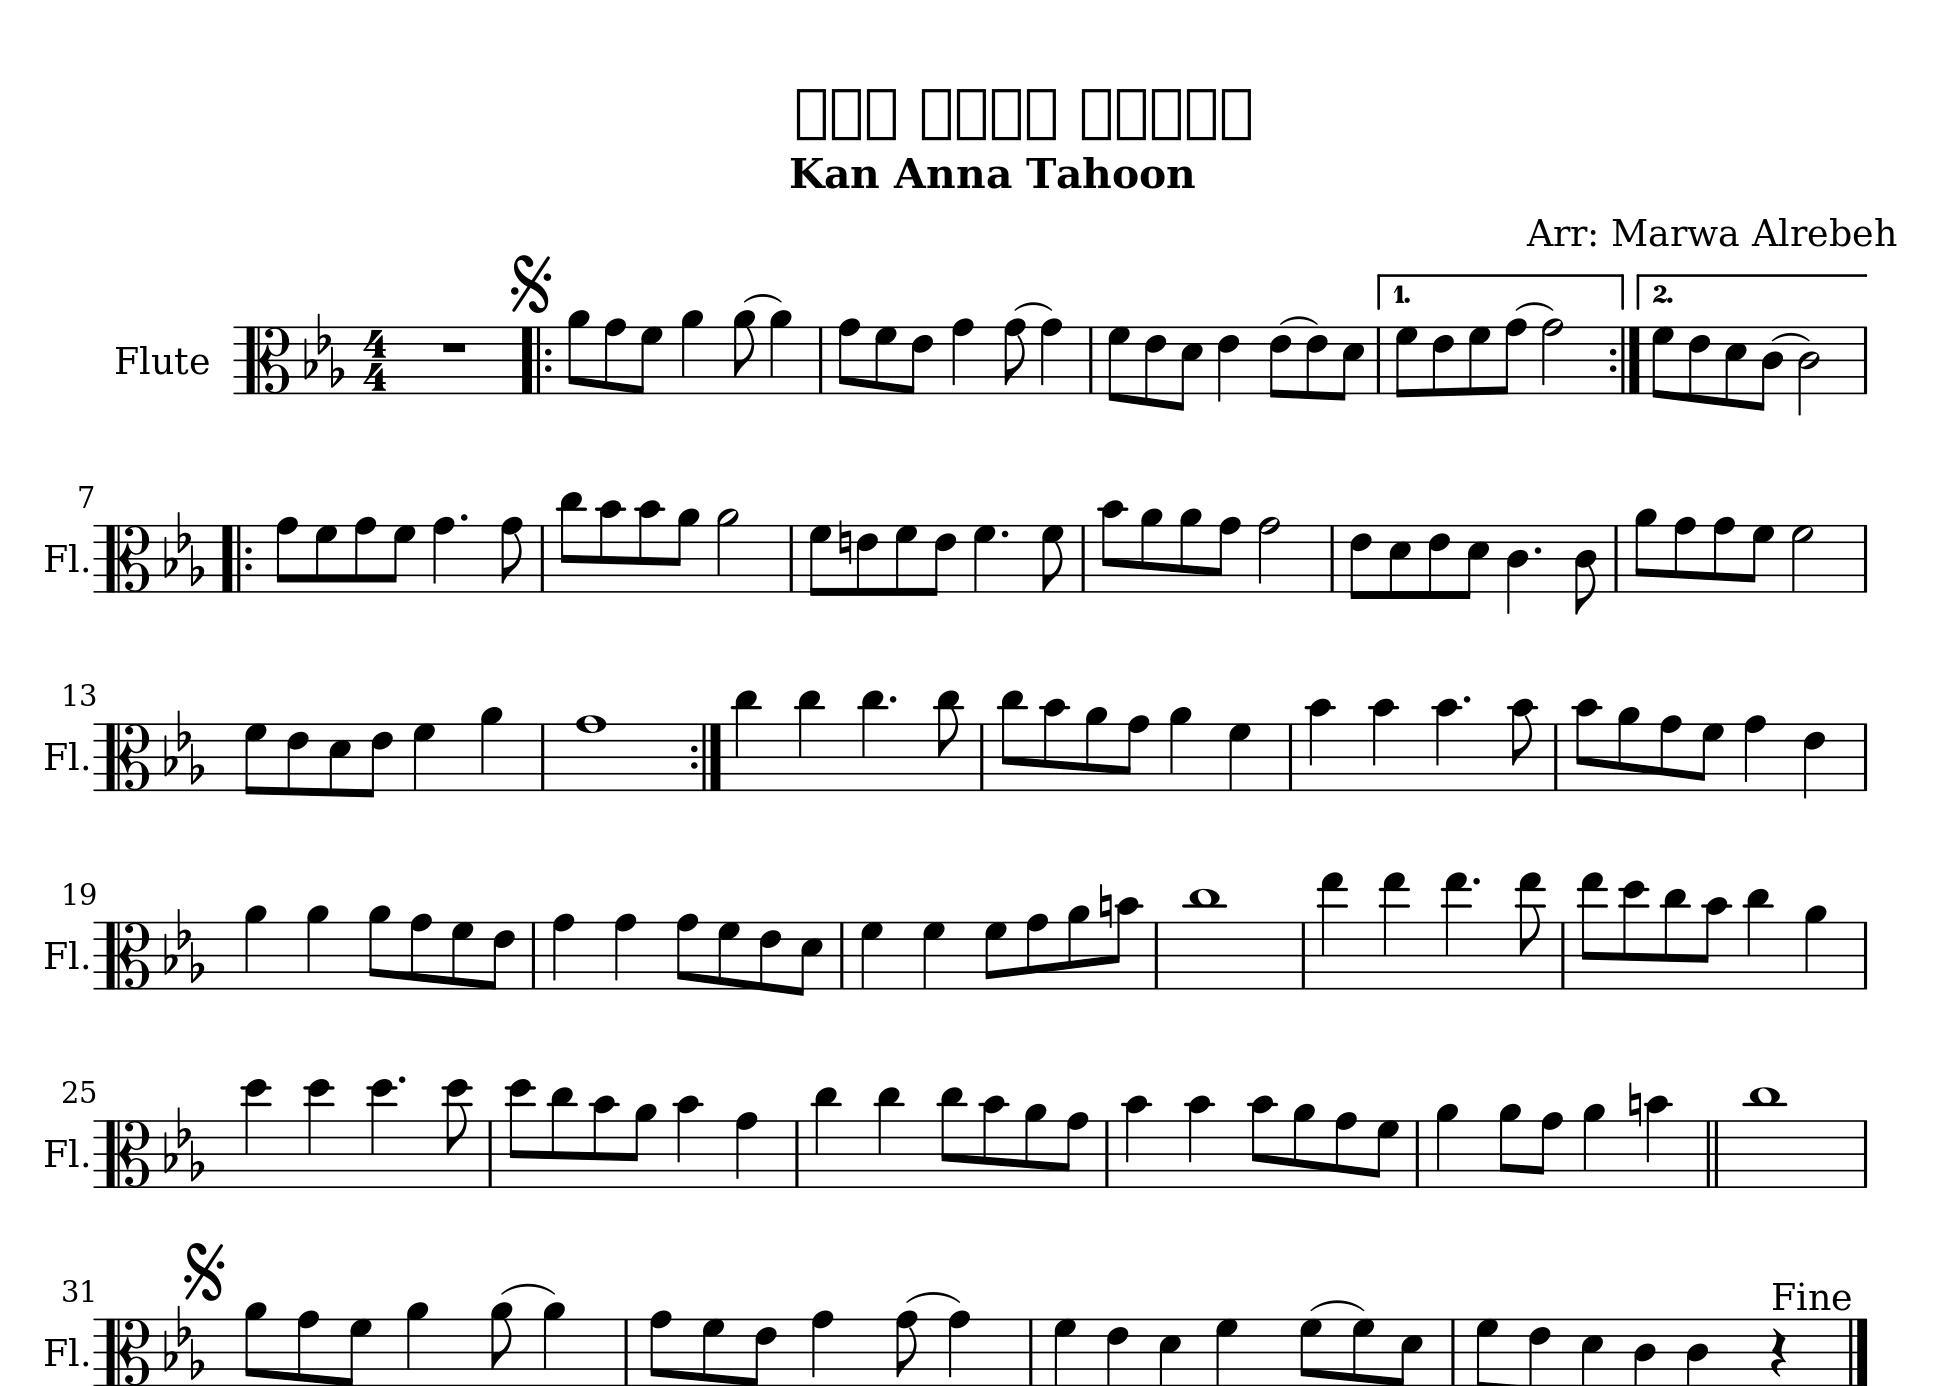1: (61, 879, 76, 907), (79, 1276, 94, 1303), (63, 679, 76, 706)
1_11: (1744, 1084, 1785, 1189), (1185, 886, 1224, 991)
1_8: (574, 712, 607, 793)
2: (60, 1078, 79, 1104)
2_4: (1797, 325, 1821, 417)
2_7: (1789, 523, 1815, 592)
2_8: (1257, 514, 1282, 595), (1540, 316, 1566, 396)
2_9: (714, 507, 739, 594)
3: (61, 1276, 78, 1303), (79, 681, 96, 706)
4: (361, 325, 388, 360), (361, 358, 388, 391)
4_10: (1368, 697, 1399, 793), (1432, 696, 1462, 792), (673, 1093, 703, 1189), (1306, 697, 1335, 793), (1122, 1093, 1150, 1189), (1185, 1093, 1213, 1189), (1644, 1093, 1672, 1189)
4_11: (793, 688, 825, 792), (811, 1084, 841, 1189), (874, 1084, 904, 1189), (730, 687, 760, 790), (1743, 885, 1773, 988), (858, 688, 886, 792)
4_12: (241, 1075, 271, 1189), (304, 1077, 334, 1189), (367, 1077, 397, 1189)
4_13: (1380, 871, 1410, 993), (1317, 871, 1347, 991), (1443, 870, 1471, 991)
4_4: (1506, 523, 1530, 615)
4_6: (1801, 721, 1827, 799), (1218, 324, 1242, 400)
4_7: (1227, 721, 1252, 792), (921, 919, 946, 990), (1215, 1315, 1240, 1386), (972, 523, 997, 592), (412, 721, 436, 792), (859, 919, 883, 990), (1053, 1317, 1077, 1384)
4_8: (945, 1308, 973, 1386), (550, 910, 576, 991), (612, 910, 637, 991), (733, 1108, 759, 1189), (808, 1308, 835, 1384), (949, 316, 975, 396), (430, 514, 456, 594), (1039, 316, 1063, 396), (1743, 712, 1767, 792)
4_9: (1581, 1102, 1608, 1189), (403, 1299, 430, 1384), (540, 1299, 567, 1384), (304, 903, 330, 991), (1434, 1101, 1459, 1189), (679, 307, 705, 394), (478, 705, 504, 792), (1168, 705, 1194, 792), (243, 903, 268, 990), (1803, 903, 1828, 990), (768, 309, 793, 394)
5: (79, 1078, 94, 1104)
7: (78, 481, 94, 508)
8_10: (1698, 894, 1731, 990), (1110, 895, 1141, 991), (1098, 498, 1128, 594), (1509, 697, 1539, 793), (1572, 697, 1602, 792), (1248, 1093, 1276, 1189), (597, 498, 625, 592), (634, 498, 663, 592), (589, 1093, 618, 1188), (1041, 696, 1068, 792), (981, 1093, 1008, 1189)
8_11: (547, 1084, 577, 1189), (556, 489, 586, 592), (999, 687, 1027, 792), (934, 688, 963, 792), (937, 1084, 966, 1188), (1662, 886, 1689, 990)
8_12: (442, 1075, 472, 1189), (505, 1075, 535, 1188), (1621, 877, 1650, 991)
8_13: (1515, 870, 1548, 990), (1578, 868, 1608, 990)
8_4: (1572, 523, 1599, 616), (1755, 325, 1783, 412)
8_5: (1174, 324, 1204, 411), (793, 919, 823, 997), (1461, 522, 1491, 598), (1393, 1315, 1425, 1386), (1336, 325, 1365, 400), (1722, 324, 1747, 406), (1387, 522, 1413, 600), (328, 721, 352, 796)
8_6: (364, 721, 394, 798), (745, 1315, 778, 1384), (928, 523, 958, 595), (487, 919, 517, 991), (904, 324, 934, 394), (1347, 523, 1374, 601), (1143, 325, 1168, 408), (1686, 324, 1711, 403), (1426, 522, 1452, 598), (285, 721, 310, 796), (1305, 324, 1329, 400), (1269, 324, 1293, 399), (1431, 324, 1455, 397), (855, 523, 879, 597), (757, 919, 781, 993)
8_7: (340, 1315, 373, 1386), (1371, 1117, 1401, 1188), (1695, 721, 1725, 790), (634, 324, 663, 394), (387, 523, 415, 592), (1746, 523, 1774, 592), (243, 721, 268, 796), (1107, 325, 1131, 403), (1297, 1315, 1324, 1384), (1350, 1315, 1377, 1384), (1651, 324, 1675, 400), (892, 523, 918, 595), (450, 919, 475, 991), (1395, 324, 1419, 399), (873, 324, 898, 394), (1041, 523, 1066, 594), (715, 919, 741, 990), (808, 523, 832, 597), (1467, 324, 1491, 394), (984, 919, 1008, 990), (1476, 1315, 1500, 1386), (313, 523, 337, 592)
8_8: (1533, 1110, 1564, 1189), (1497, 316, 1528, 394), (1212, 514, 1242, 592), (1120, 712, 1150, 790), (1060, 1110, 1089, 1189), (646, 1308, 673, 1386), (408, 910, 433, 991), (601, 316, 627, 396), (1002, 316, 1027, 396), (499, 514, 525, 594), (1672, 514, 1698, 594), (1333, 1110, 1359, 1189), (295, 1308, 321, 1386), (1026, 910, 1050, 991), (274, 514, 298, 594), (352, 514, 376, 594), (1713, 514, 1737, 594), (1659, 712, 1683, 792), (837, 316, 861, 394), (675, 912, 699, 990)
8_9: (670, 507, 700, 592), (628, 1102, 658, 1188), (730, 310, 757, 396), (487, 1299, 514, 1384), (1066, 903, 1092, 990), (1291, 1102, 1317, 1189), (1497, 1102, 1522, 1189), (243, 1299, 268, 1386), (1633, 507, 1659, 592), (565, 307, 589, 396), (1140, 507, 1164, 594), (1179, 507, 1203, 594), (1617, 705, 1641, 792), (1023, 1102, 1047, 1189), (1084, 705, 1108, 790), (367, 904, 391, 990)
9: (79, 877, 97, 907)
Cclef: (243, 324, 292, 396), (102, 919, 151, 991), (102, 721, 151, 792), (102, 523, 151, 592), (103, 1317, 153, 1386), (103, 1119, 151, 1189)
Double_barline: (1702, 1119, 1725, 1186)
E_F: (160, 708, 205, 786), (160, 906, 205, 982), (160, 511, 205, 586)
Final_barline: (1845, 1315, 1872, 1384)
Fl: (40, 538, 81, 576), (40, 936, 81, 973), (40, 1134, 81, 1171), (40, 1333, 81, 1371), (112, 342, 151, 378), (40, 736, 79, 772)
LeftRepeatSign: (517, 324, 553, 394), (219, 523, 253, 592)
Natural: (1626, 1078, 1644, 1129), (837, 516, 853, 565), (1098, 880, 1113, 928)
Prima_volta: (1374, 271, 1626, 312)
Rests1: (436, 337, 469, 355)
Rests4: (1770, 1324, 1788, 1378)
RightRepeatSign: (1608, 325, 1644, 393), (688, 723, 724, 790)
Seconda_volta: (1633, 270, 1872, 310)
Segno: (505, 250, 556, 313), (180, 1239, 226, 1303)
Single_barline: (532, 721, 553, 789), (1854, 1119, 1875, 1186), (1294, 921, 1314, 987), (1857, 919, 1875, 988), (832, 921, 850, 988), (787, 1119, 805, 1186), (1098, 1119, 1116, 1186), (1410, 1119, 1428, 1186), (1282, 723, 1300, 789), (1023, 1317, 1041, 1383), (1857, 523, 1873, 592), (1857, 721, 1873, 790), (813, 325, 829, 393), (1083, 325, 1099, 393), (534, 523, 550, 591), (1324, 523, 1341, 591), (1147, 921, 1164, 988), (783, 525, 799, 591), (481, 1120, 498, 1186), (1857, 325, 1872, 393), (1608, 523, 1623, 591), (1371, 325, 1386, 391), (975, 723, 990, 787), (1555, 922, 1570, 987), (1077, 523, 1090, 589), (1549, 723, 1563, 789)
Slur: (499, 1282, 558, 1297), (1309, 1297, 1366, 1312), (904, 1290, 963, 1303), (1771, 328, 1812, 343), (1279, 313, 1320, 327), (742, 292, 783, 304), (1014, 300, 1053, 312), (1515, 300, 1554, 312)
TimeSig: (361, 325, 390, 391)
dot: (1461, 693, 1473, 706), (457, 511, 469, 523), (999, 526, 1011, 538), (886, 693, 898, 705), (1470, 874, 1482, 886), (396, 1072, 406, 1086), (1531, 544, 1543, 555)
